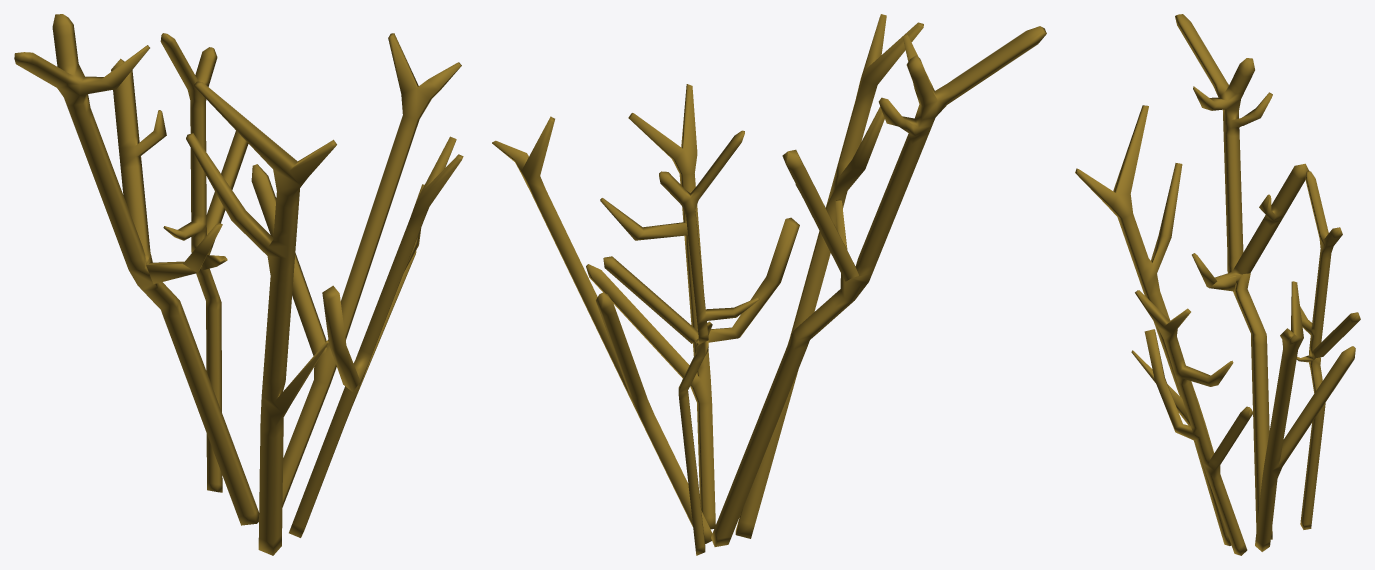
File: deadBush.fbx
The picture shows the model from 3 angles, left to right: view 1: azimuth 30°, elevation 25°; view 2: azimuth 150°, elevation 25°; view 3: azimuth 270°, elevation 25°; orthographic projection. The views are drawn at different scales.
Visible parts, largest first — view 1: Cube.166; view 2: Cube.166; view 3: Cube.166.
Part boxes in pixels (bbox=[...]): Cube.166: bbox=[14, 14, 463, 555]; Cube.166: bbox=[492, 14, 1046, 555]; Cube.166: bbox=[1075, 14, 1360, 555].
Size of the model in its own units: 98.86 by 107 by 64.6.
